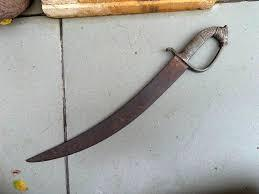sword: (9, 46, 233, 173)
